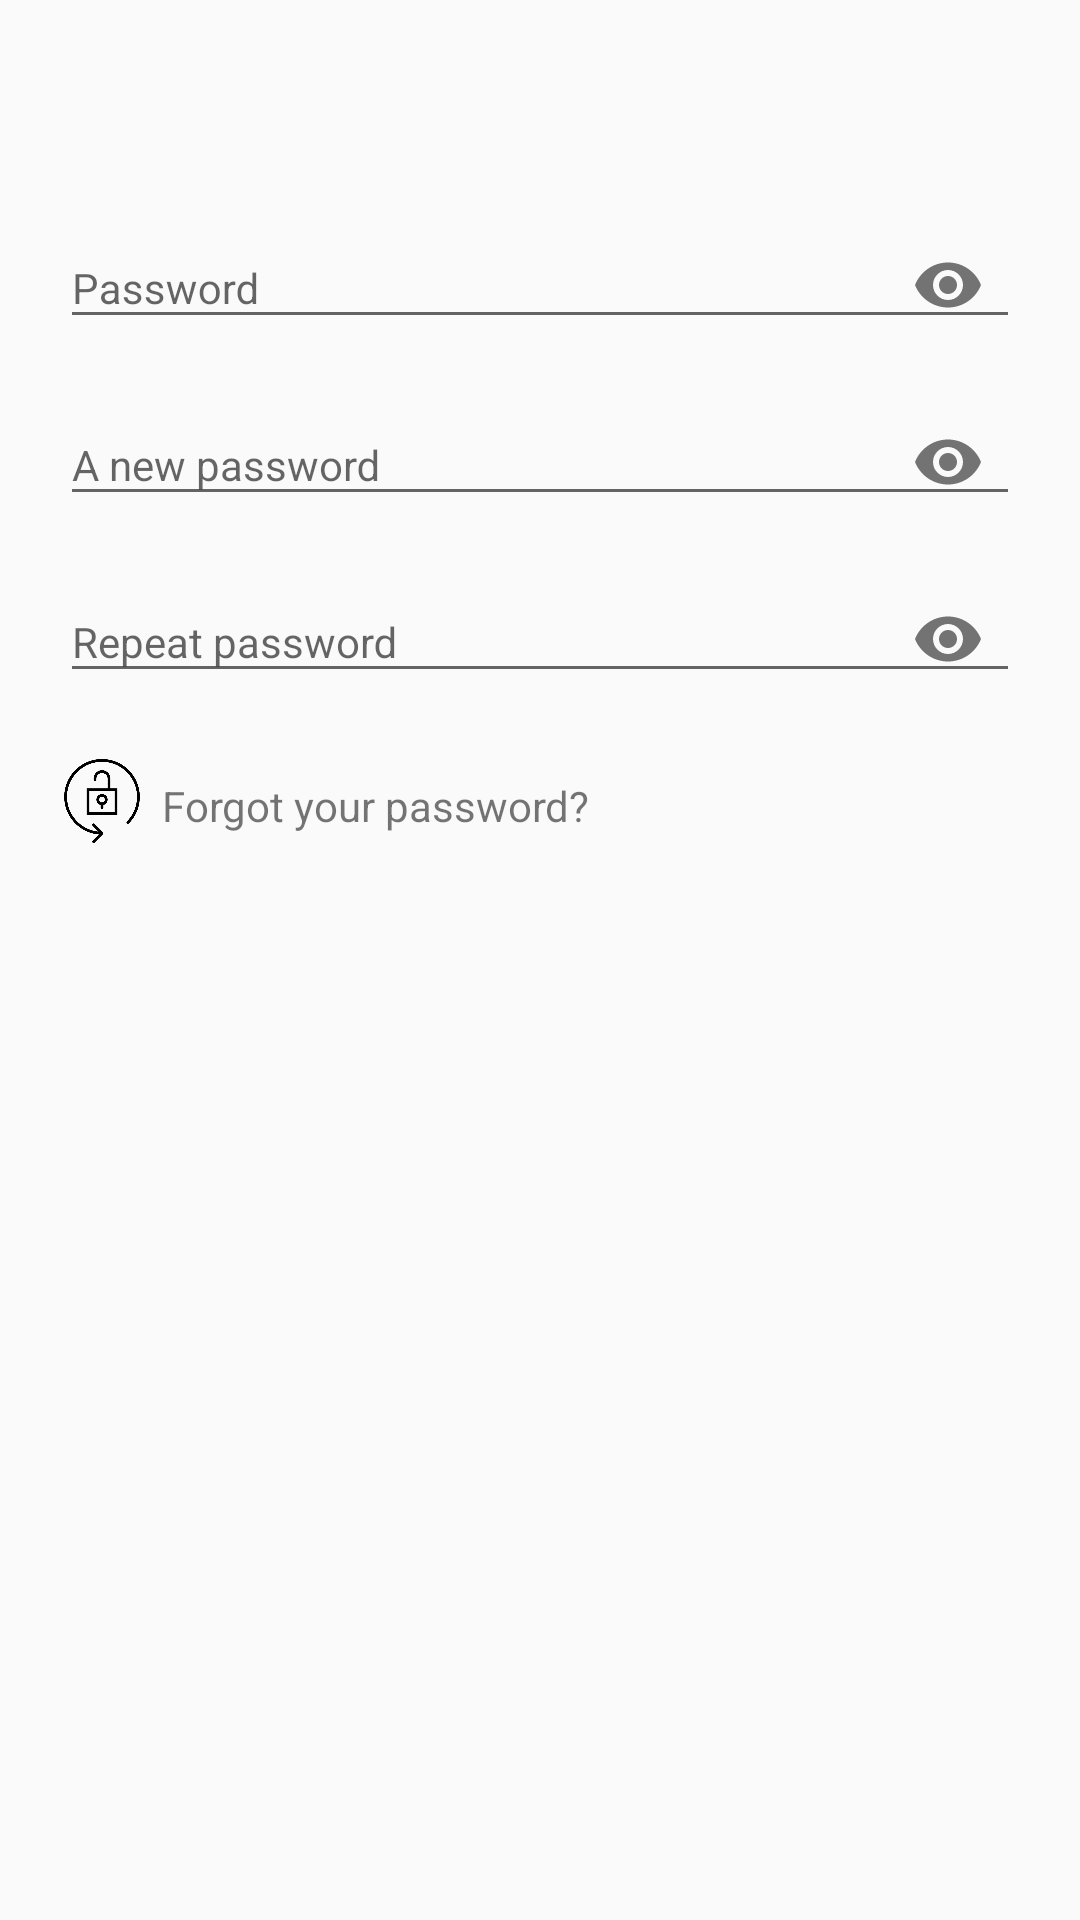

Where to tap for icons on this 1080w x 1920h app screen, as [x,y]:
lock: [102,801]
